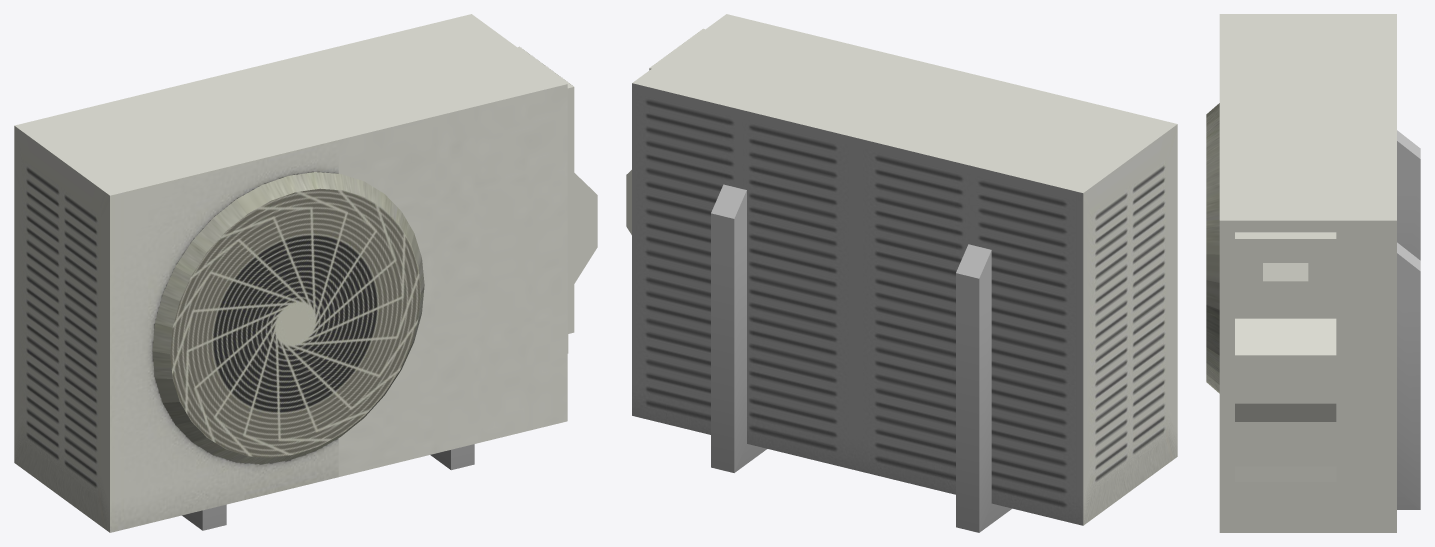
3 views of the same model, side by side, from view 1: azimuth 30°, elevation 25°; view 2: azimuth 150°, elevation 25°; view 3: azimuth 270°, elevation 25° (orthographic). The views are drawn at different scales.
Parts seen in each view (by area): view 1: external-unit; view 2: external-unit; view 3: external-unit.
Part boxes in pixels (bbox=[...]): external-unit: bbox=[14, 14, 597, 532]; external-unit: bbox=[626, 14, 1177, 532]; external-unit: bbox=[1206, 14, 1420, 532].
Size of the model in its own units: 121 by 83.41 by 48.88.
